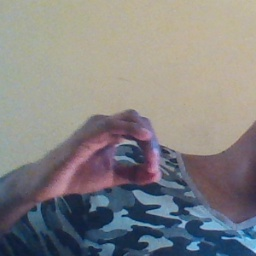O: (42, 107, 172, 200)
